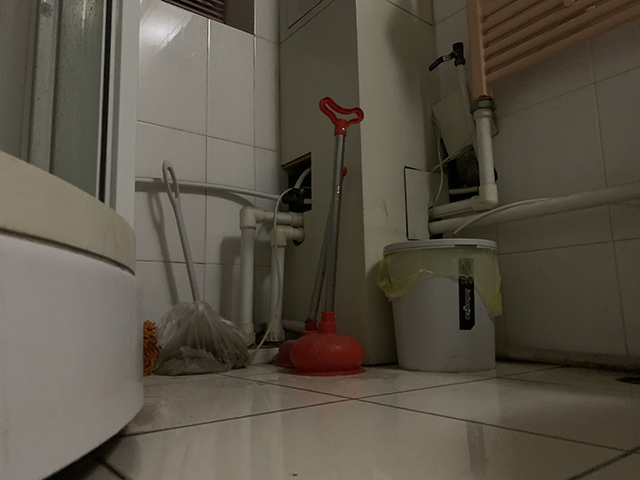trashcan: (377, 237, 503, 376)
